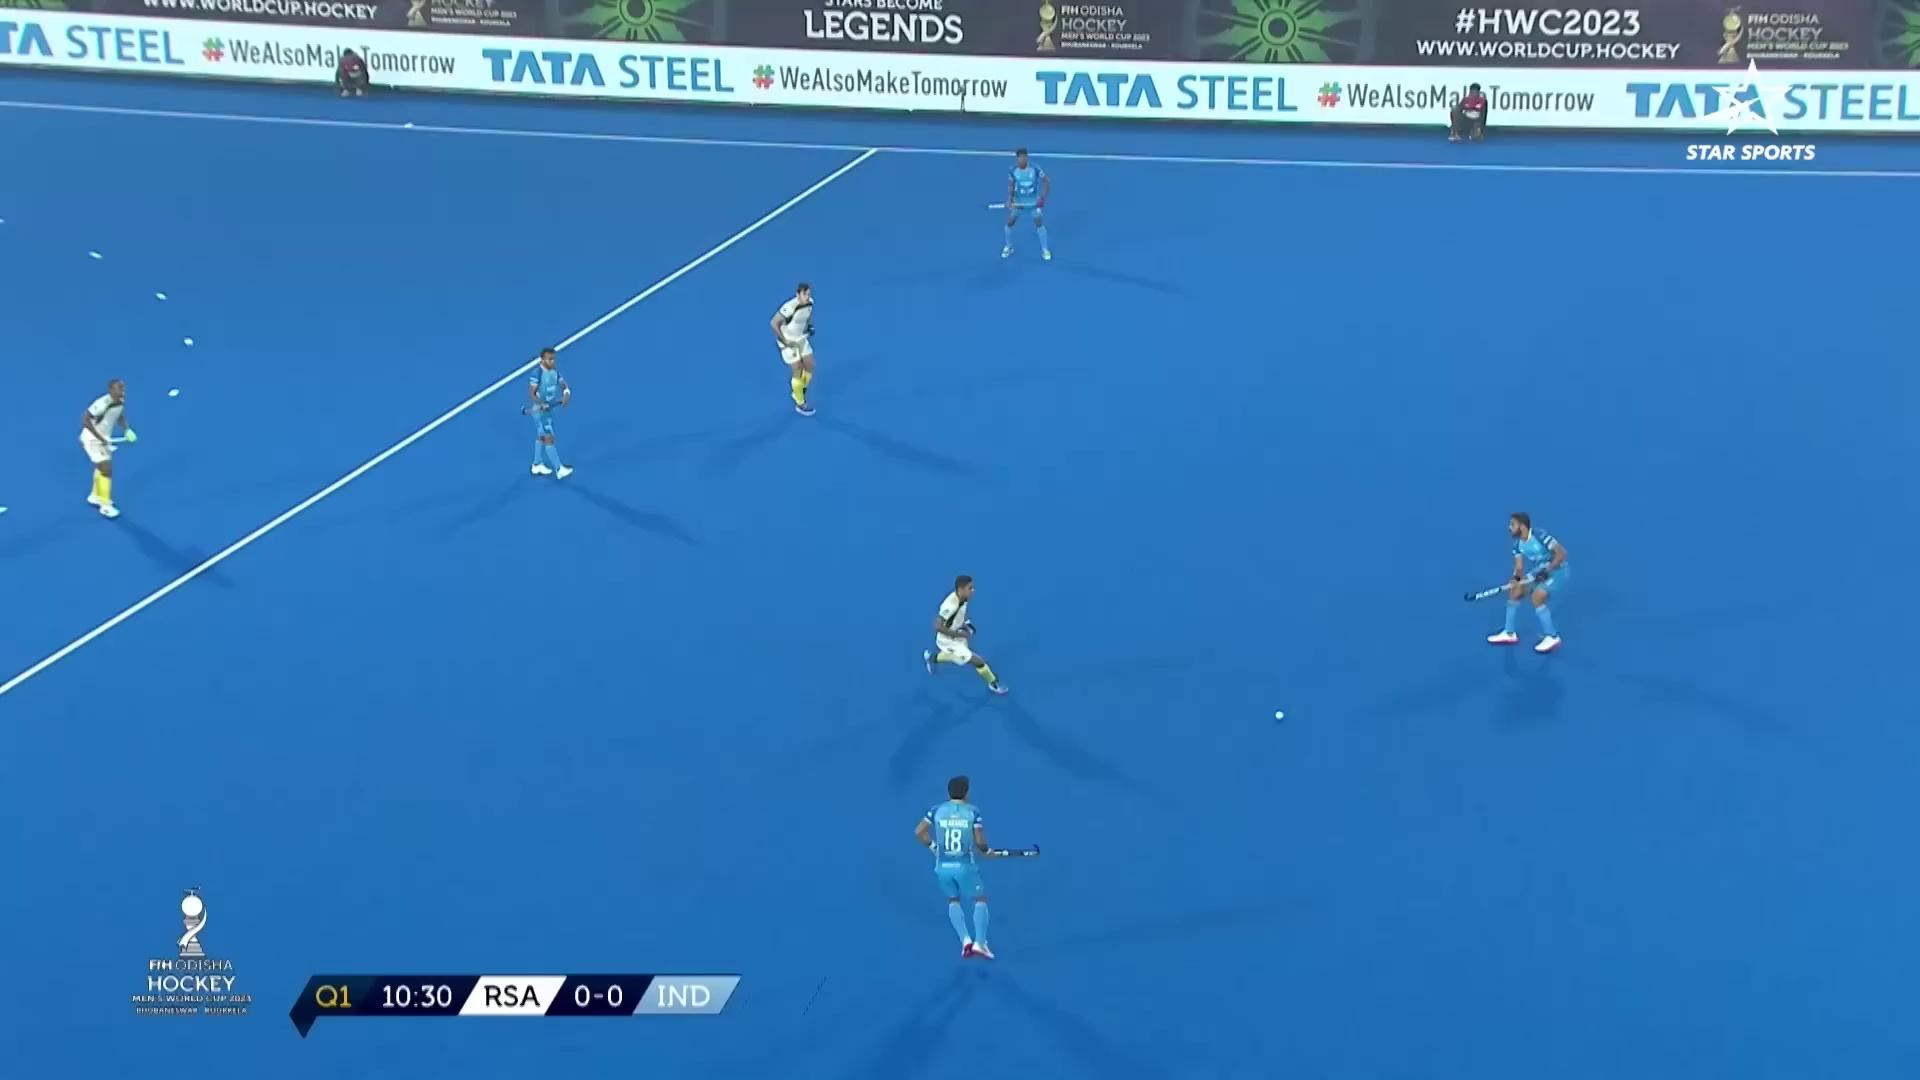ball: (1270, 705, 1288, 726)
